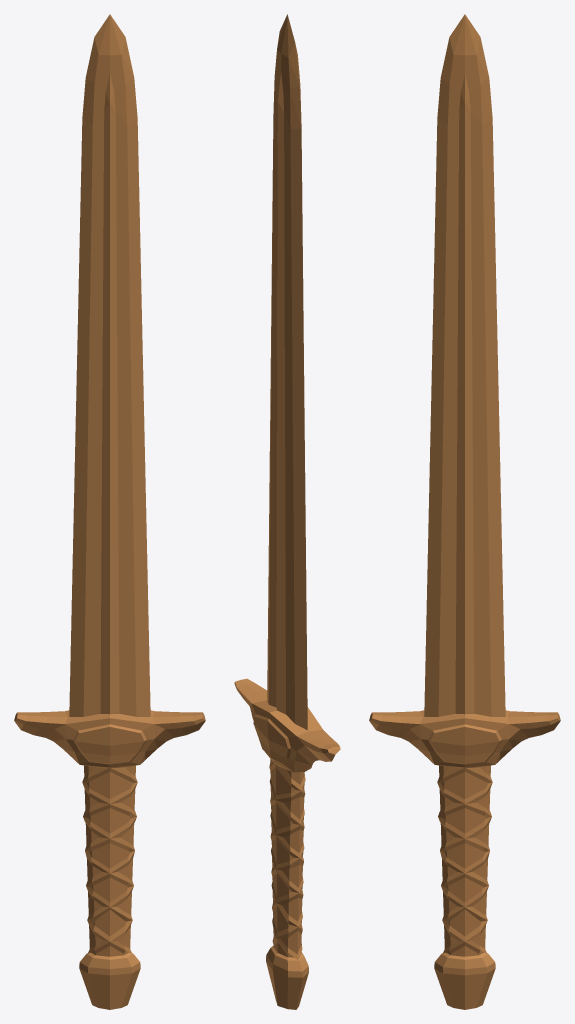
The model's file is Copper_Greatsword_Flat.fbx.
3 views of the same model, side by side, from view 1: azimuth 90°, elevation 25°; view 2: azimuth 210°, elevation 25°; view 3: azimuth 270°, elevation 25° (orthographic).
Parts seen in each view (by area): view 1: GreatSword_Copper_Flat; view 2: GreatSword_Copper_Flat; view 3: GreatSword_Copper_Flat.
Boxes of the visible parts, x1,y1,x2,y2 form: GreatSword_Copper_Flat: (14,14,205,1009); GreatSword_Copper_Flat: (234,14,340,1009); GreatSword_Copper_Flat: (369,14,560,1009).
Bounding box in the file's own units: 0.1969 × 4.64 × 0.8144.
